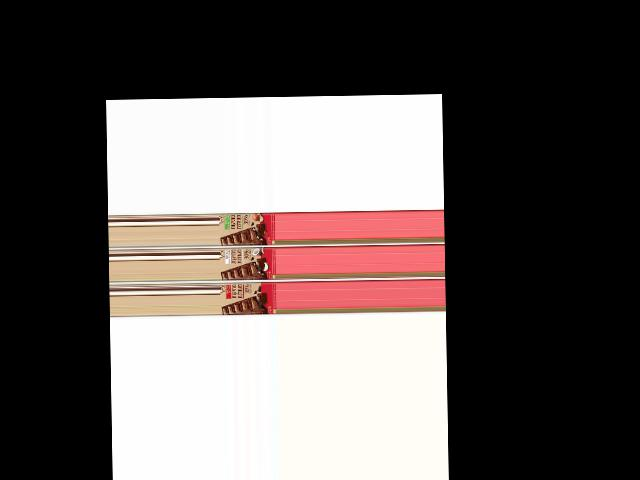chocolate: (219, 211, 276, 245)
